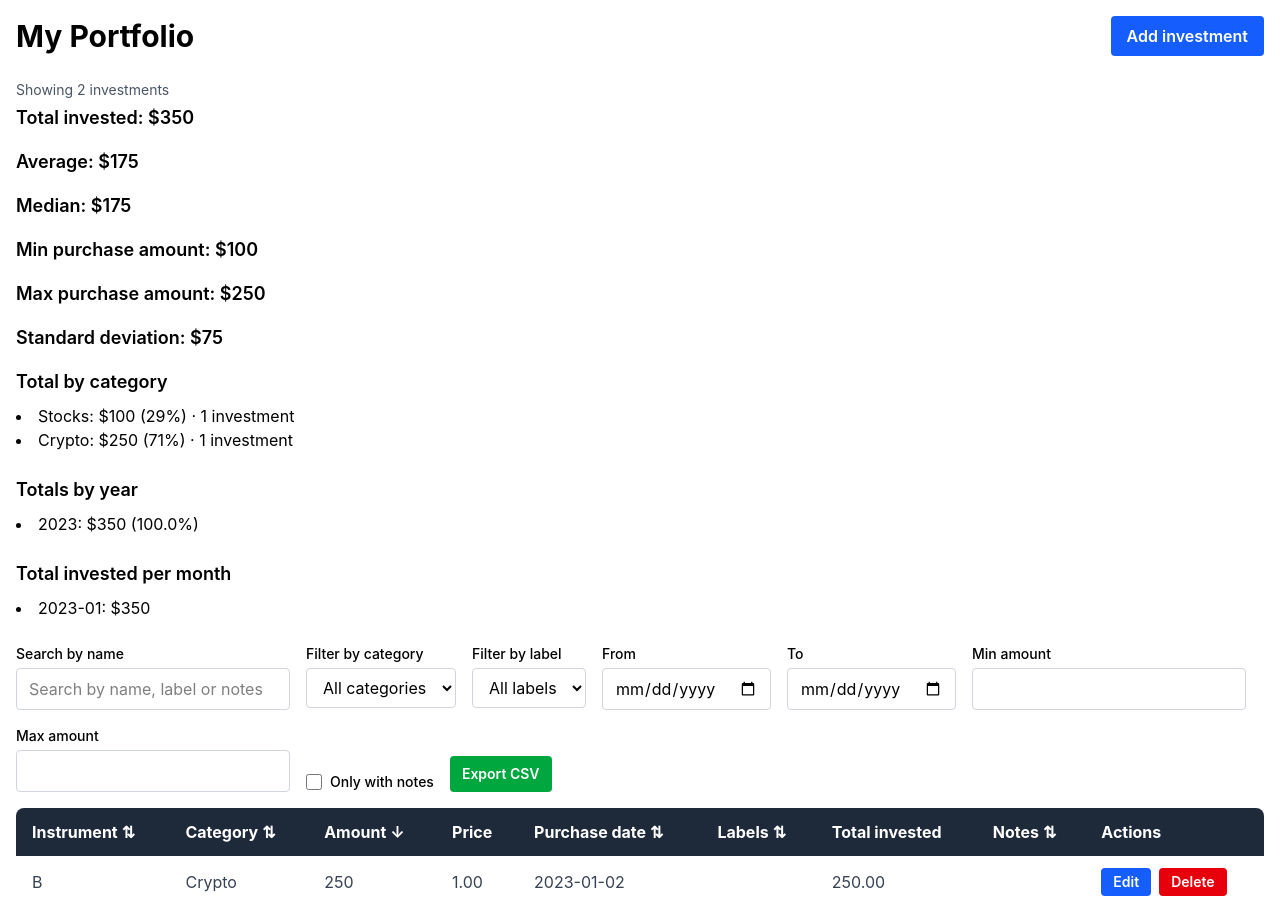
HomePage › total invested summary › AC-003: total reflects only the filtered-in investments when a category filter is active
Expected: the text "Total invested: $350" is shown, [16,107,194,128]
Select "Stocks" in the dropdown labelled "Filter by category": (381, 688) [306,668,456,708]
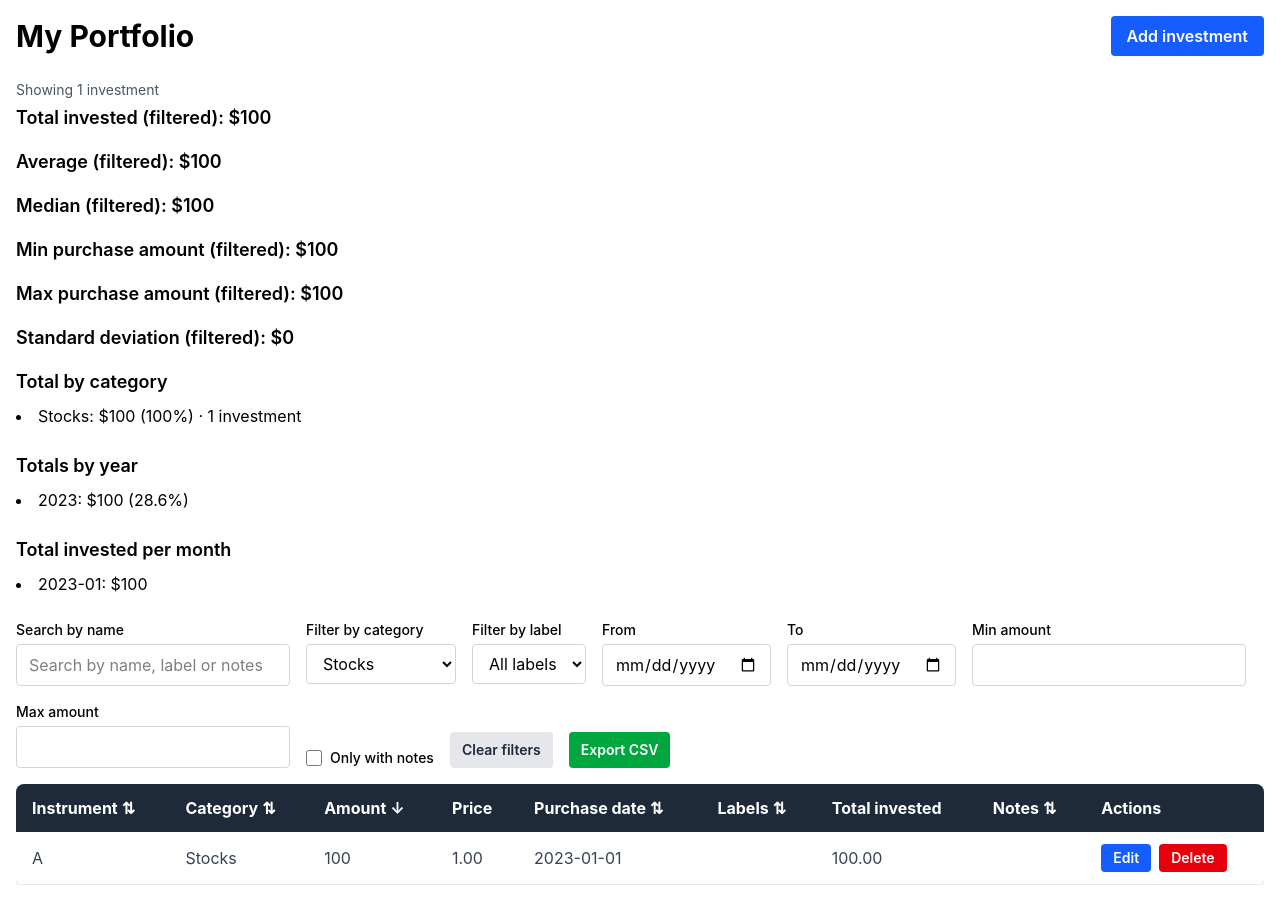
Result: the text "Total invested (filtered): $100" is shown at [16,107,272,128]
